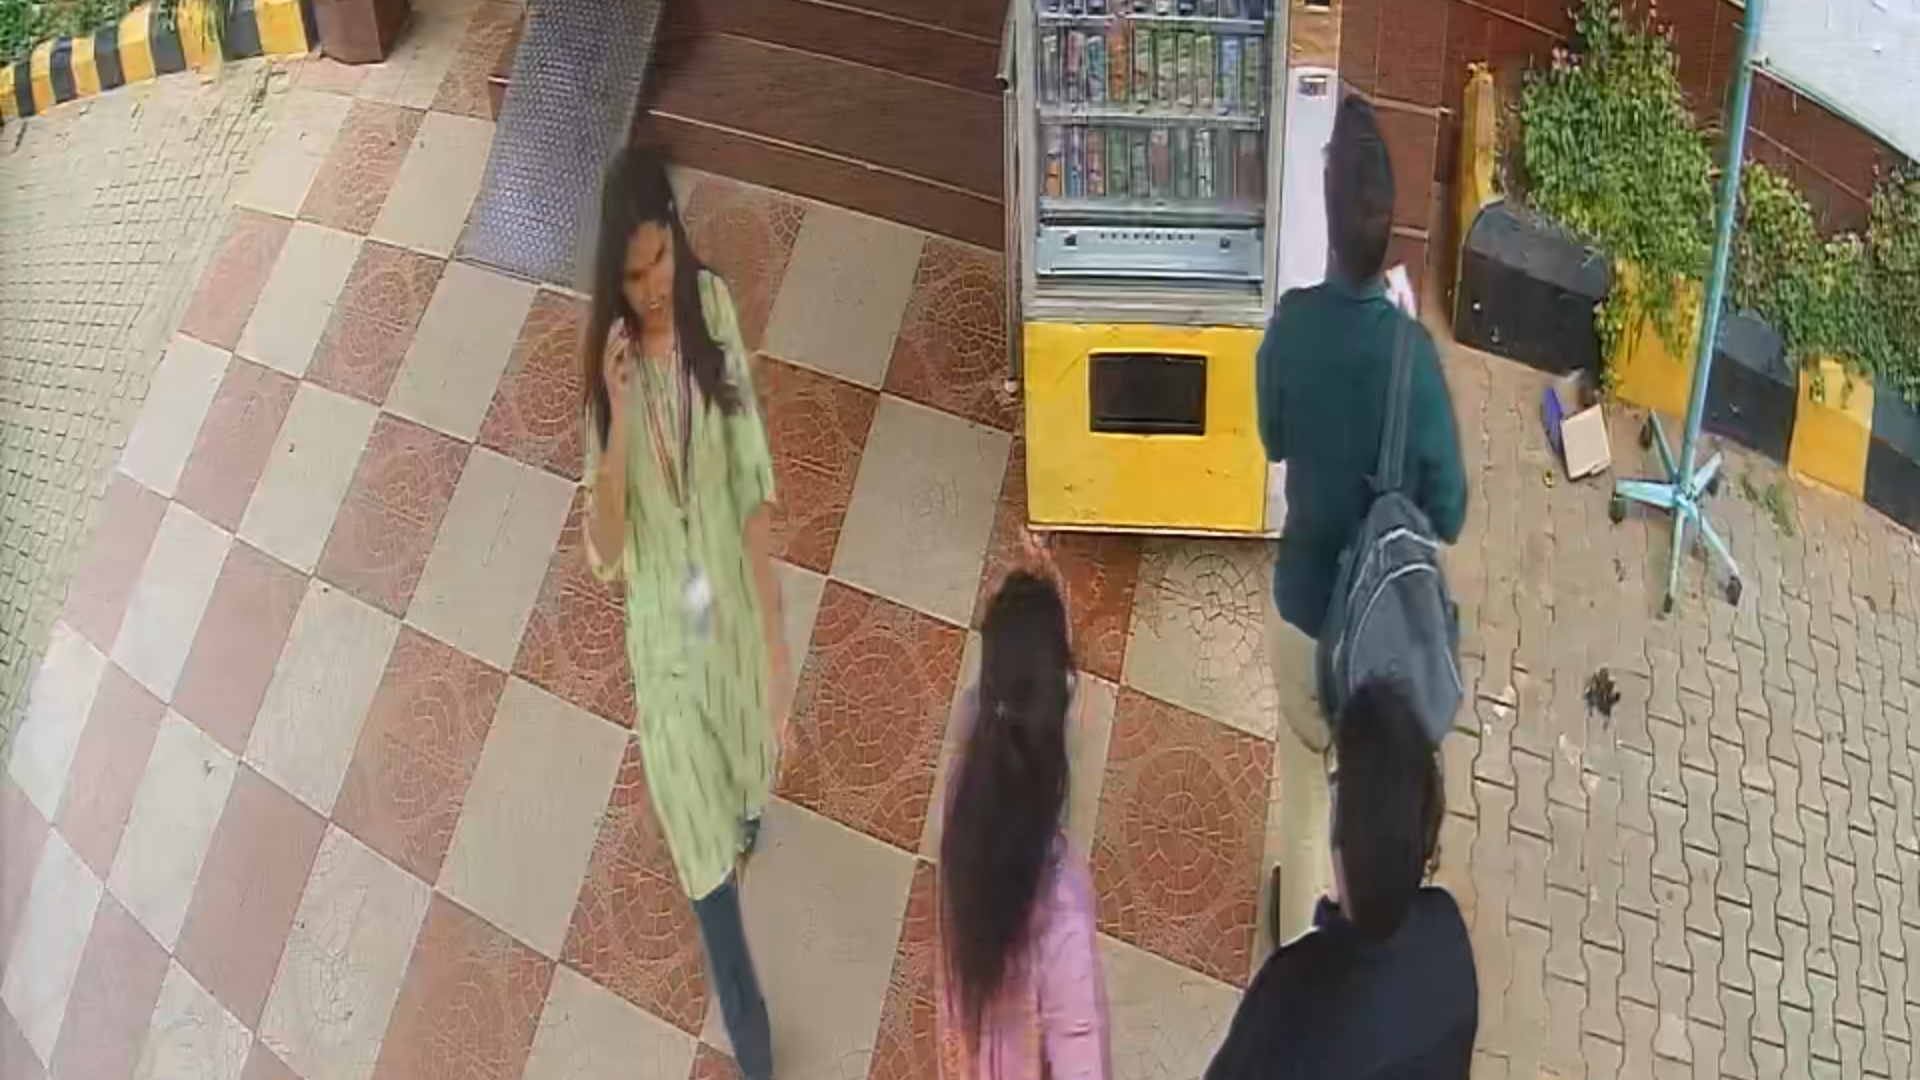not intruder: (556, 167, 798, 1080)
